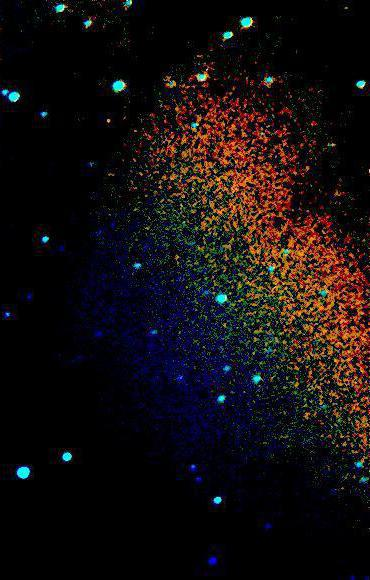star: (94, 106, 124, 136)
